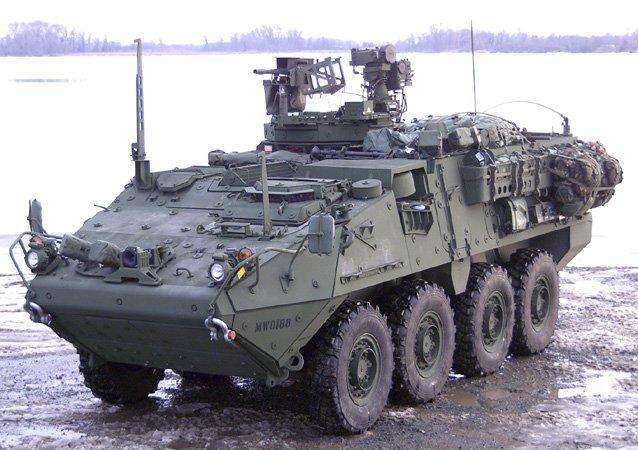MIL_IFV: (7, 18, 624, 438)
